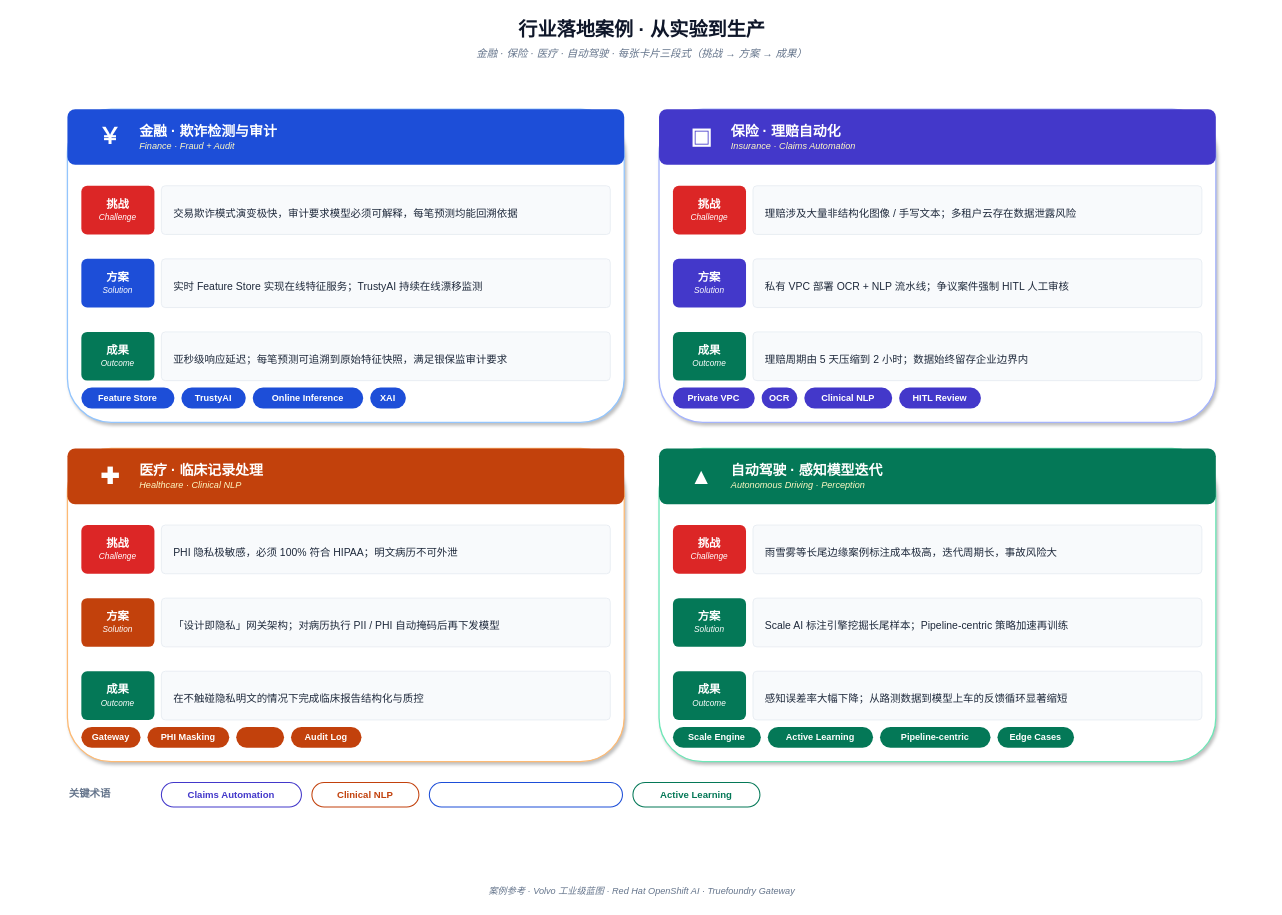
This 1282x915 diagram has some shape labels left out. The centre of each missing label's shape, as x and y in pixels:
"Fraud Pattern Recognition" goes at point 525,794.
"HIPAA" goes at point 260,736.
